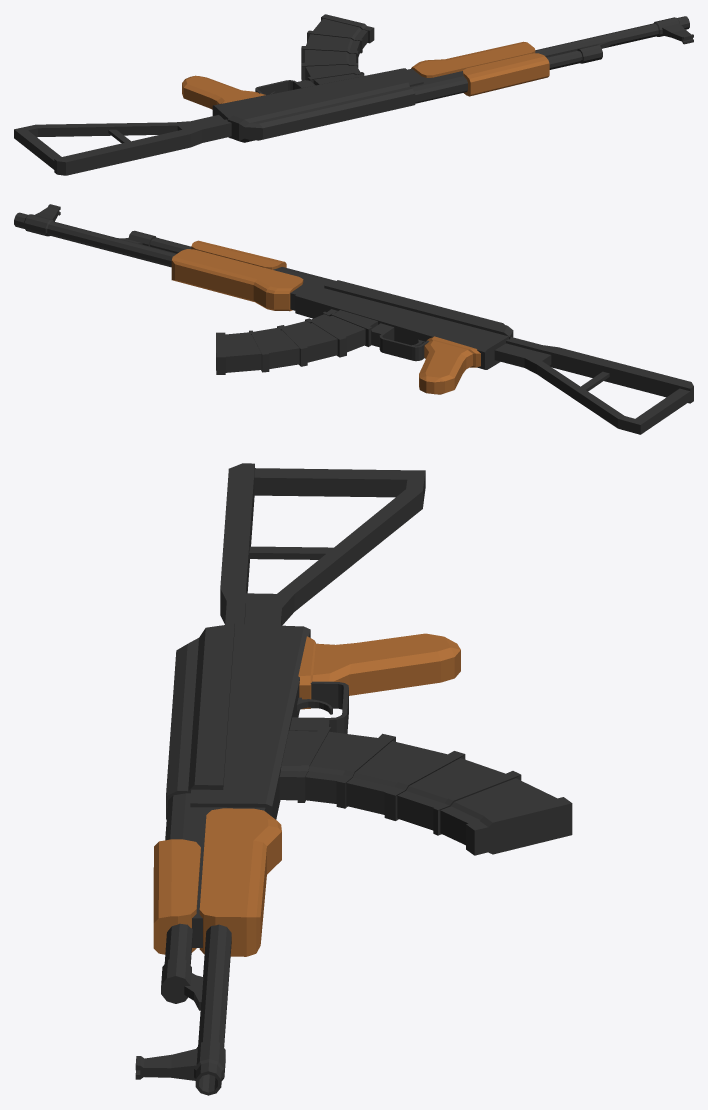
Rendered from Guns_4.fbx.
The picture shows the model from 3 angles, top to bottom: view 1: azimuth 30°, elevation 25°; view 2: azimuth 150°, elevation 25°; view 3: azimuth 270°, elevation 25°; orthographic projection. The views are drawn at different scales.
Parts seen in each view (by area): view 1: Gun-4; view 2: Gun-4; view 3: Gun-4.
Part boxes in pixels (left/top/right/bottom): Gun-4: left=14, top=14, right=693, bottom=175; Gun-4: left=14, top=204, right=693, bottom=434; Gun-4: left=135, top=463, right=572, bottom=1095.
Size of the model in its own units: 3.41 by 0.1218 by 1.04.
